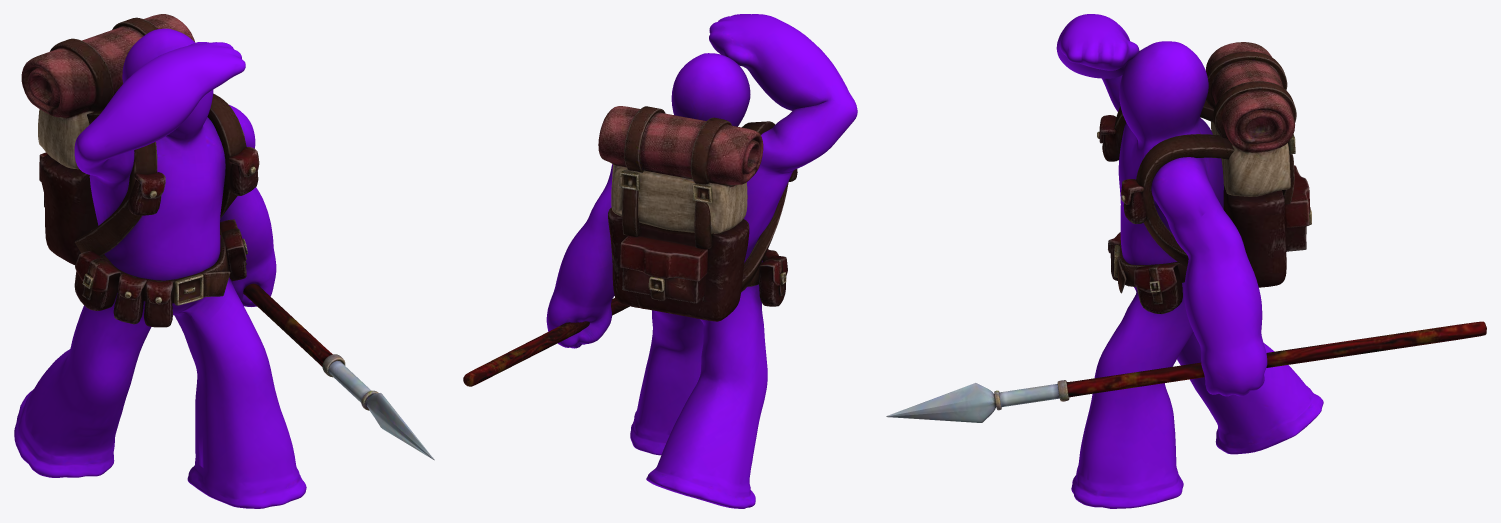
Rendered from MZ4250 - Plasmoid Explorer (Purple).glb.
3 views of the same model, side by side, from view 1: azimuth 30°, elevation 25°; view 2: azimuth 150°, elevation 25°; view 3: azimuth 270°, elevation 25° (orthographic). The views are drawn at different scales.
Visible parts, largest first — view 1: Plasmoid Explorer.001; view 2: Plasmoid Explorer.001; view 3: Plasmoid Explorer.001.
Boxes of the visible parts, x1=… form: Plasmoid Explorer.001: x1=14, y1=14, x2=434, y2=508; Plasmoid Explorer.001: x1=463, y1=14, x2=857, y2=508; Plasmoid Explorer.001: x1=886, y1=14, x2=1486, y2=508.
Size of the model in its own units: 107 by 180 by 225.
Materials: 1 (1 with a texture image).
